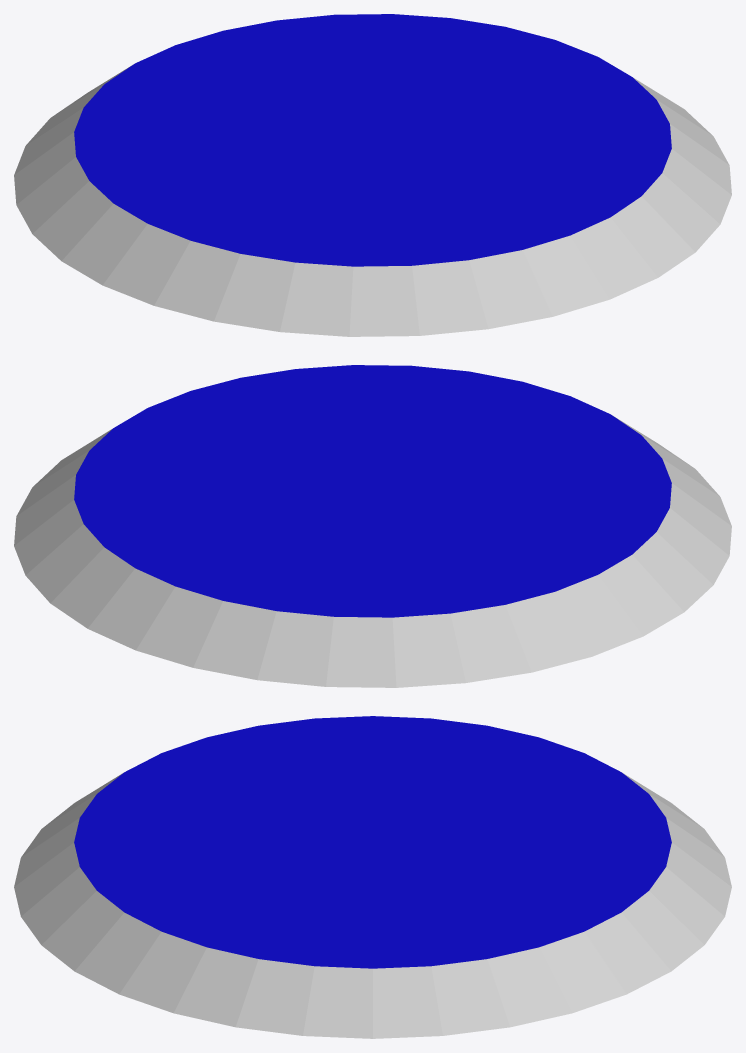
Rendered from StageBotan.obj.
3 renders of one model, top to bottom at view 1: azimuth 30°, elevation 25°; view 2: azimuth 150°, elevation 25°; view 3: azimuth 270°, elevation 25°, orthographic.
Visible parts, largest first — view 1: 円; view 2: 円; view 3: 円.
Boxes of the visible parts, x1,y1,x2,y2 form: 円: (14, 14, 731, 336); 円: (14, 365, 731, 687); 円: (14, 716, 731, 1038).
Bounding box in the file's own units: 2 × 0.1378 × 2.
